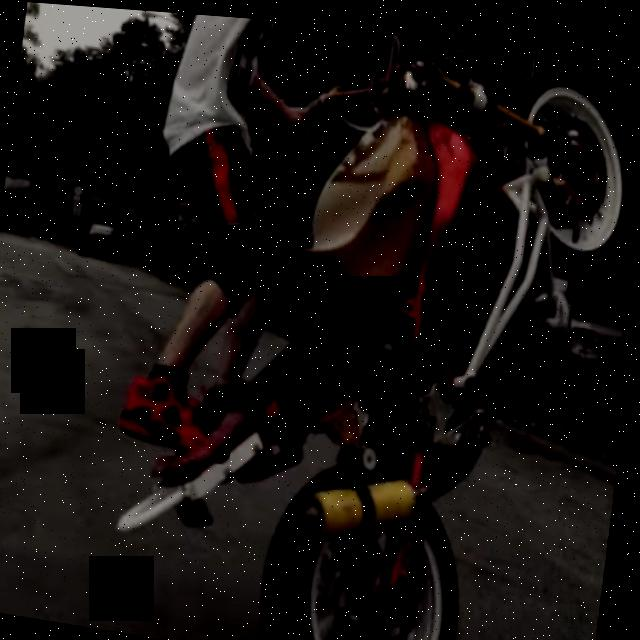shoe: (107, 350, 243, 461)
